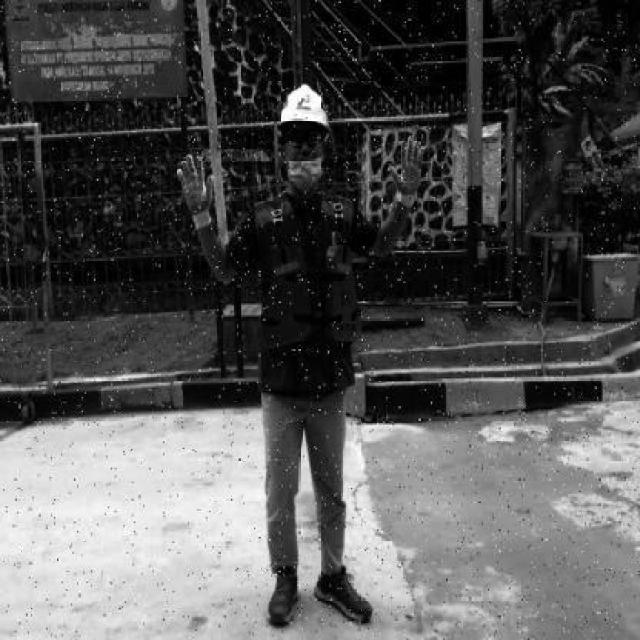Gloves: (173, 156, 218, 236), (388, 136, 423, 210)
Helmet: (274, 78, 334, 139)
Mask: (285, 157, 326, 194)
Protective Glasses: (286, 128, 322, 149)
Vest: (253, 242, 362, 347)
